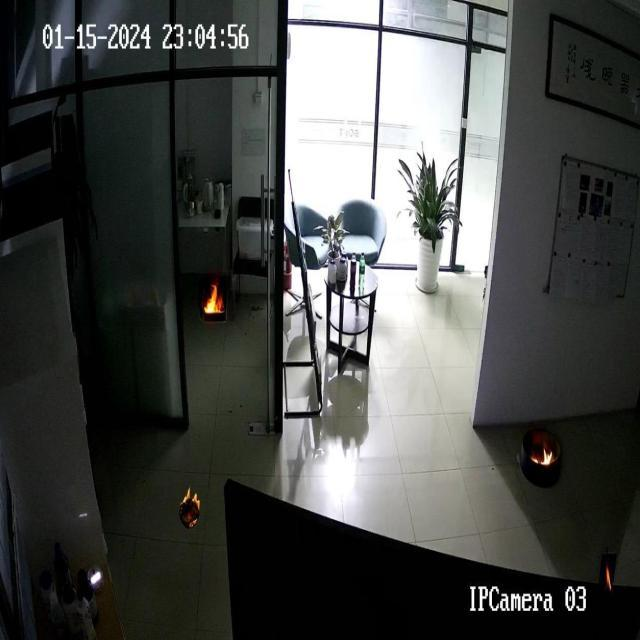smoke: (182, 480, 200, 526), (204, 286, 222, 314), (528, 447, 552, 468), (603, 562, 612, 592)
